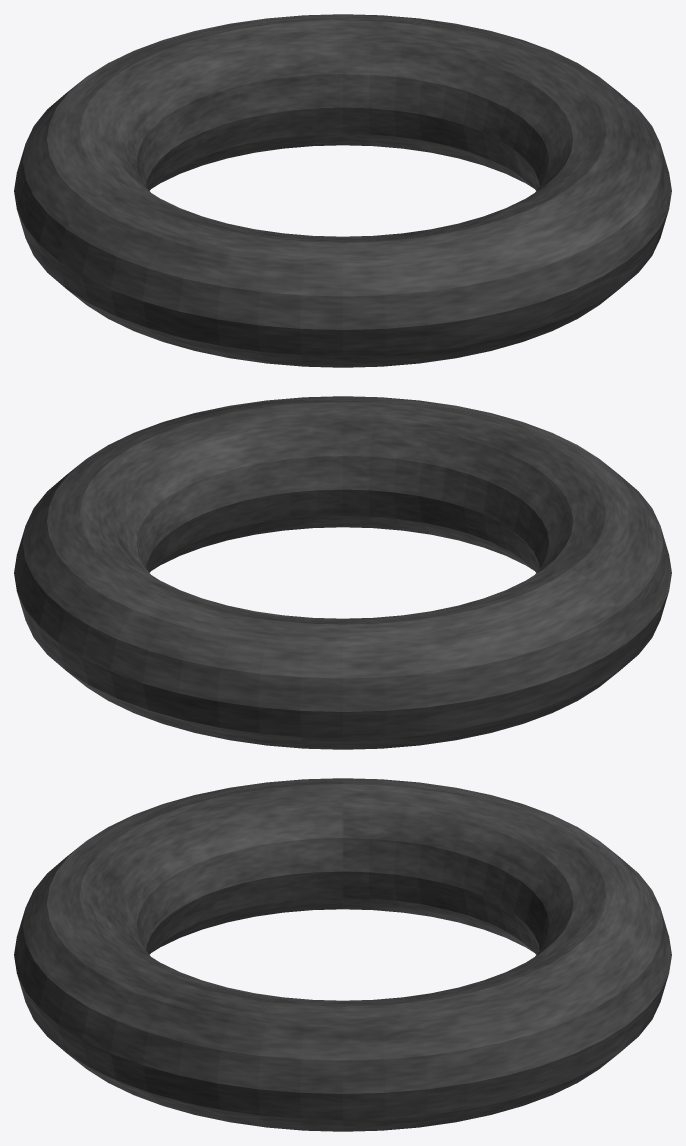
The model's file is tunnel.obj.
The picture shows the model from 3 angles, top to bottom: view 1: azimuth 30°, elevation 25°; view 2: azimuth 150°, elevation 25°; view 3: azimuth 270°, elevation 25°; orthographic projection.
Parts seen in each view (by area): view 1: tunnel; view 2: tunnel; view 3: tunnel.
Part boxes in pixels (x1=…): tunnel: x1=14, y1=14, x2=671, y2=367; tunnel: x1=14, y1=396, x2=671, y2=749; tunnel: x1=14, y1=778, x2=671, y2=1131.
Size of the model in its own units: 2.5 by 0.5 by 2.5.
Materials: 1 (1 with a texture image).
